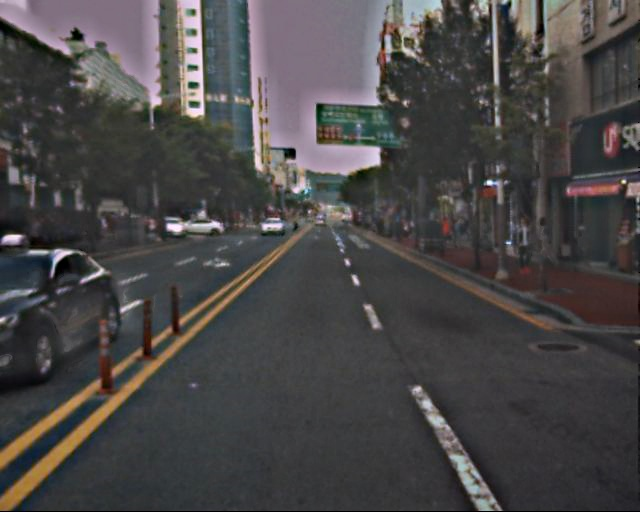person: (531, 217, 556, 276), (514, 211, 534, 276)
